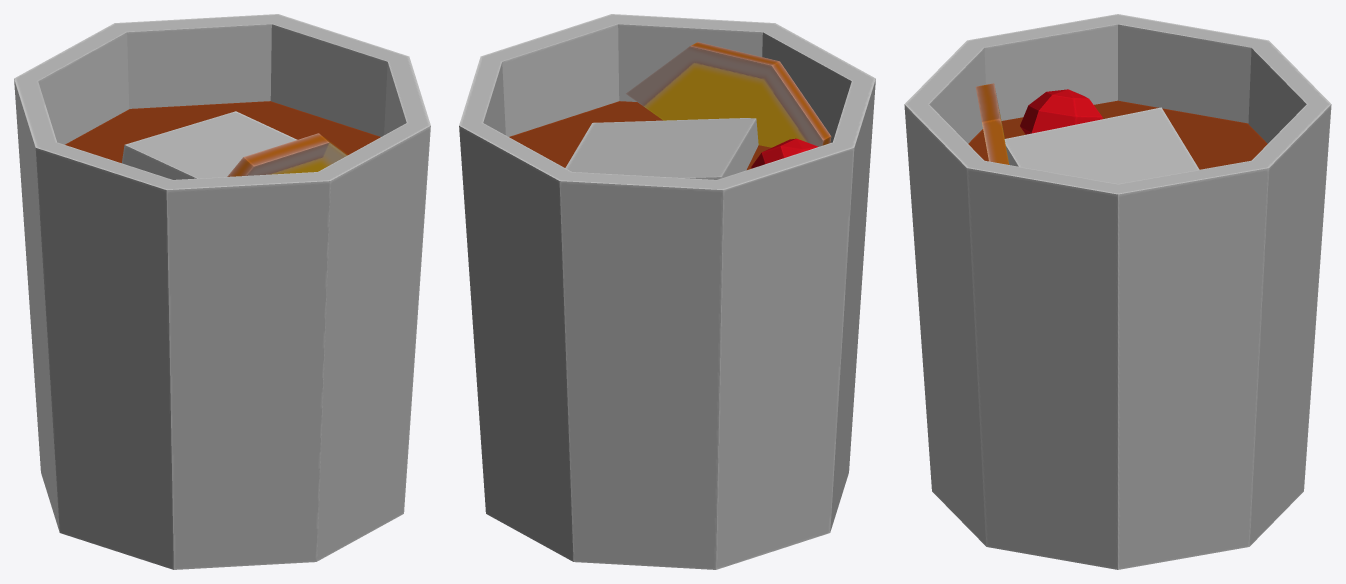
The picture shows the model from 3 angles, left to right: view 1: azimuth 30°, elevation 25°; view 2: azimuth 150°, elevation 25°; view 3: azimuth 270°, elevation 25°; orthographic projection.
Parts seen in each view (by area): view 1: OldFashioned_mesh; view 2: OldFashioned_mesh; view 3: OldFashioned_mesh.
Boxes of the visible parts, bbox=[...] form: OldFashioned_mesh: bbox=[14, 14, 430, 569]; OldFashioned_mesh: bbox=[459, 14, 875, 569]; OldFashioned_mesh: bbox=[904, 14, 1331, 569].
Bounding box in the file's own units: 2 × 2.02 × 2.
1 material, 1 textured.
